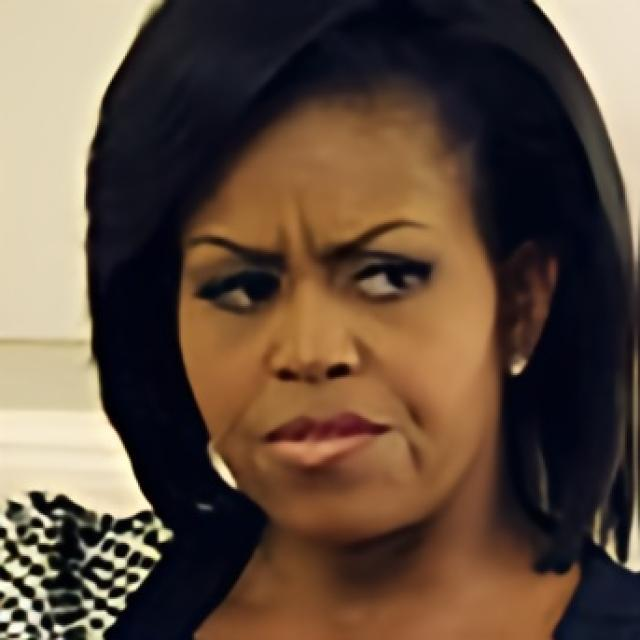anger: (177, 105, 502, 540)
